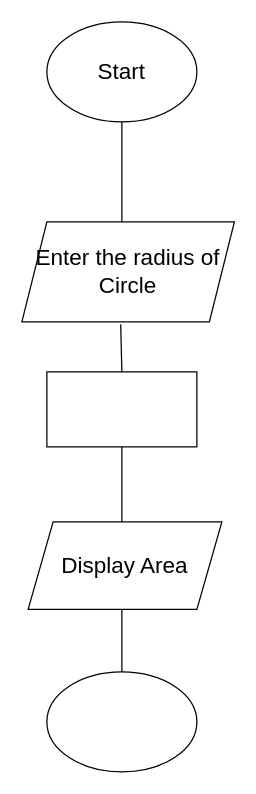
Some shapes in this 256 by 794 pixel diagram are drawn without their labels. Here are the shapes that lost their labels. From the top down, the box of each, then its label:
(46, 371, 197, 447): Area = 3.14 * radius * radius
(46, 671, 197, 772): End
